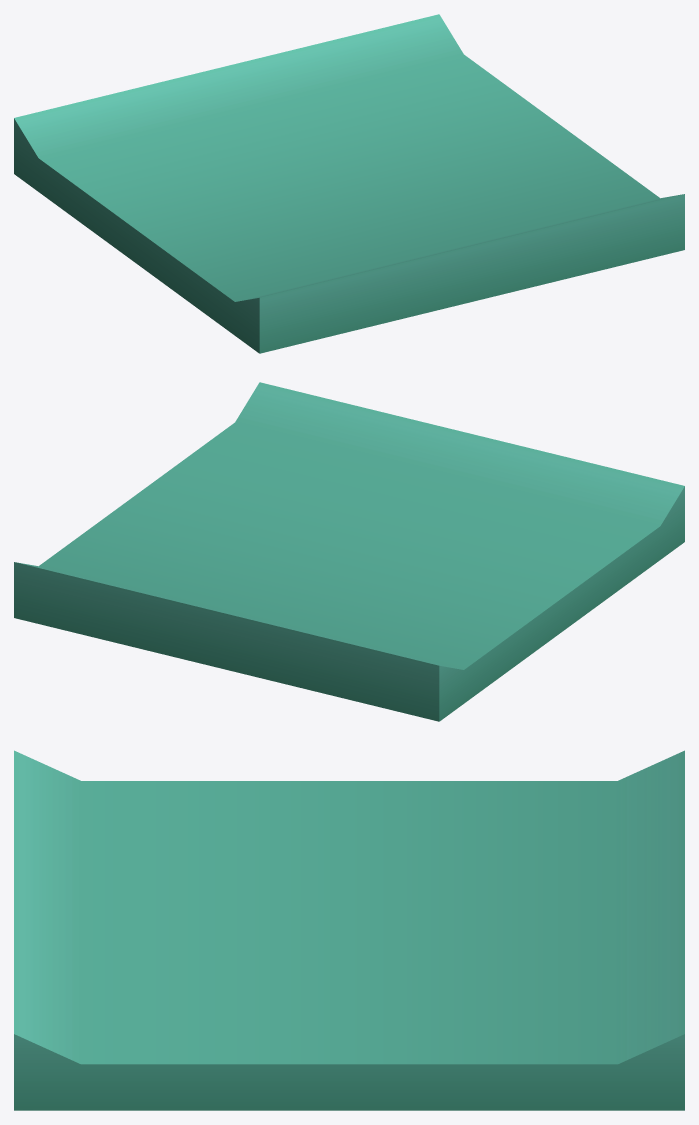
The model's file is roof-flat.glb.
3 views of the same model, one above another, from view 1: azimuth 30°, elevation 25°; view 2: azimuth 150°, elevation 25°; view 3: azimuth 270°, elevation 25° (orthographic). The views are drawn at different scales.
Visible parts, largest first — view 1: roof-flat; view 2: roof-flat; view 3: roof-flat.
Part boxes in pixels (box(x1,y1,x2,y2)): roof-flat: box(14, 14, 684, 353); roof-flat: box(14, 382, 684, 721); roof-flat: box(14, 750, 684, 1110).
Size of the model in its own units: 1 by 0.1259 by 1.
1 material, 1 textured.
